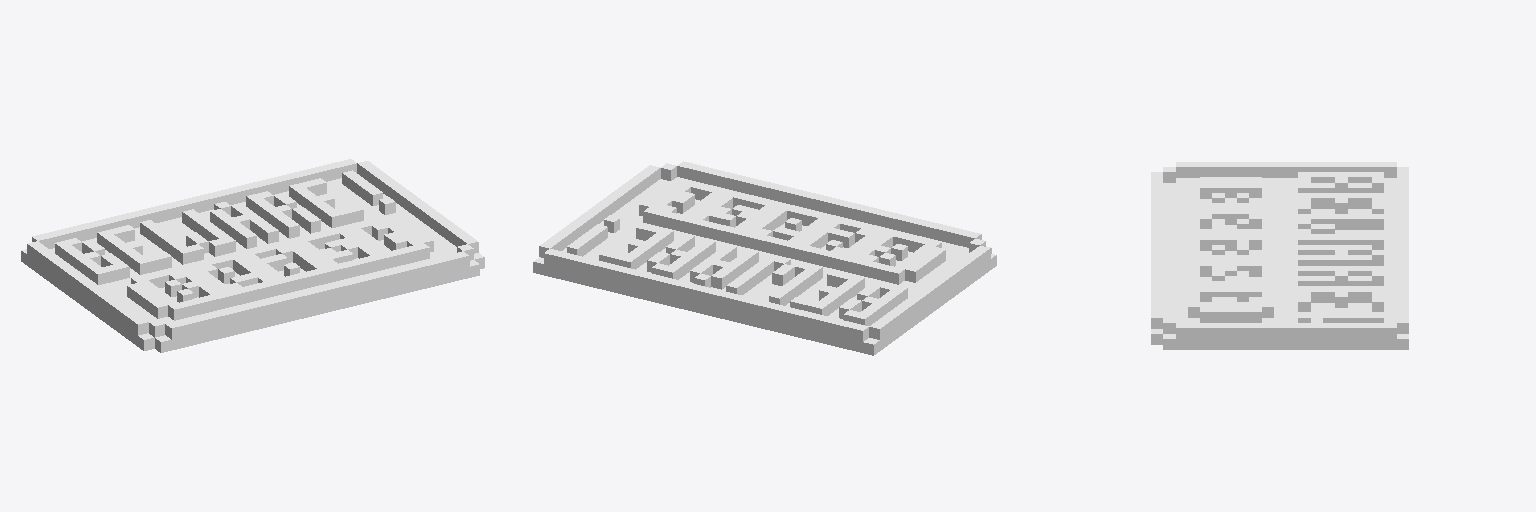
Rendered from pancarte.obj.
3 views of the same model, side by side, from view 1: azimuth 30°, elevation 25°; view 2: azimuth 150°, elevation 25°; view 3: azimuth 270°, elevation 25° (orthographic).
Parts seen in each view (by area): view 1: object 1; view 2: object 1; view 3: object 1.
Part boxes in pixels (x1,y1,x2,y2): object 1: (21, 159, 484, 352); object 1: (533, 161, 996, 355); object 1: (1151, 162, 1408, 349).
Bounding box in the file's own units: 3.2 × 0.2 × 2.1.